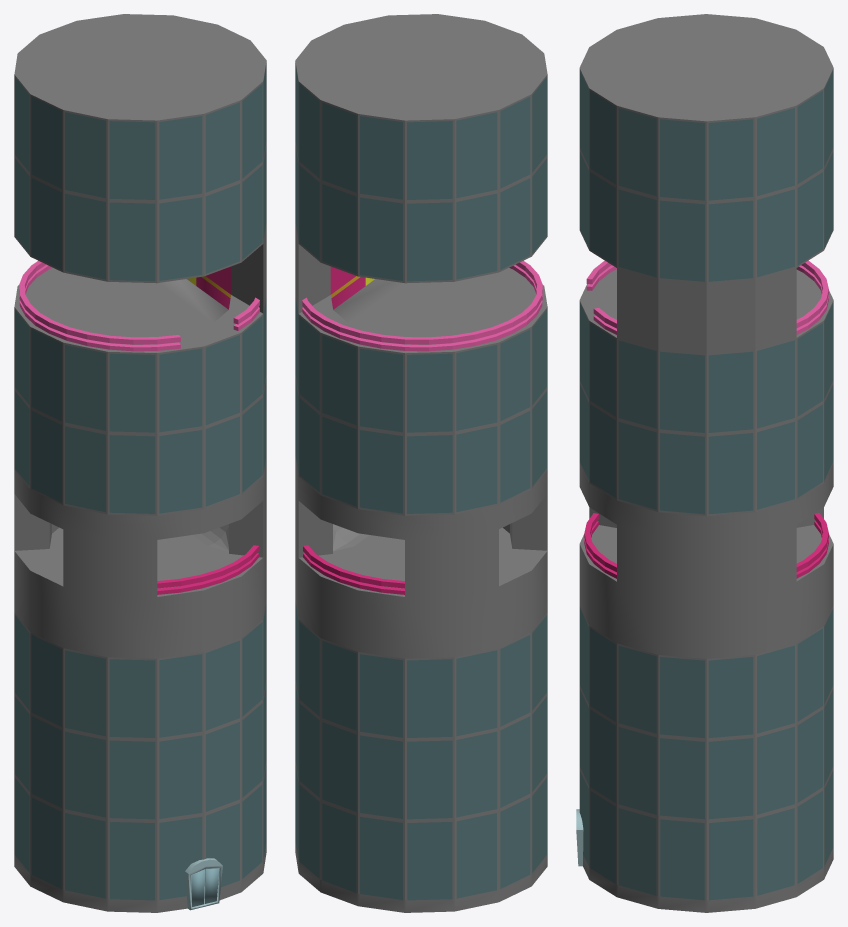
The model's file is MultiAccessTower.fbx.
3 views of the same model, side by side, from view 1: azimuth 30°, elevation 25°; view 2: azimuth 150°, elevation 25°; view 3: azimuth 270°, elevation 25° (orthographic).
Parts seen in each view (by area): view 1: MultiAccessTower, MultiAccessTower.001, MATDoor, MultiAccessTower.002; view 2: MultiAccessTower, MultiAccessTower.001, MultiAccessTower.002; view 3: MultiAccessTower, MultiAccessTower.001, MultiAccessTower.002.
Boxes of the visible parts, bbox=[...] form: MultiAccessTower: bbox=[14, 14, 266, 912]; MultiAccessTower.001: bbox=[19, 260, 259, 351]; MATDoor: bbox=[185, 858, 222, 910]; MultiAccessTower.002: bbox=[157, 545, 258, 594]; MultiAccessTower: bbox=[295, 14, 547, 912]; MultiAccessTower.001: bbox=[302, 260, 542, 351]; MultiAccessTower.002: bbox=[303, 545, 404, 594]; MultiAccessTower: bbox=[579, 14, 833, 912]; MultiAccessTower.001: bbox=[586, 260, 828, 334]; MultiAccessTower.002: bbox=[584, 513, 828, 578].
Bounding box in the file's own units: 113 × 115 × 390.
